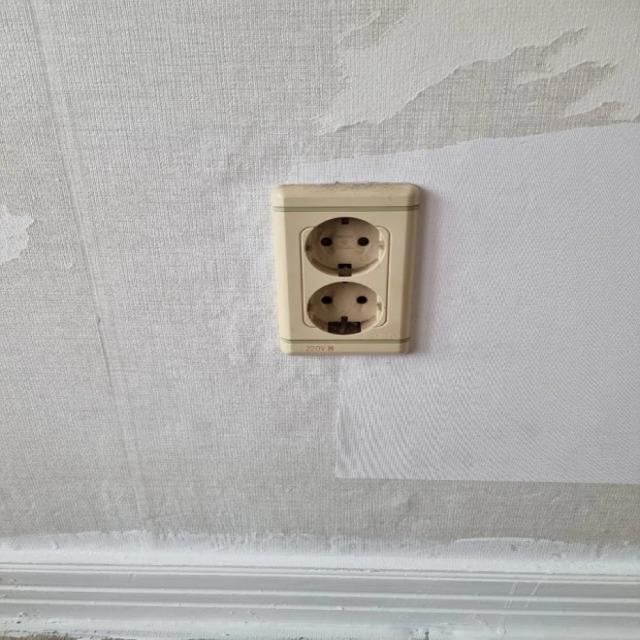typeb: (180, 151, 456, 392)
